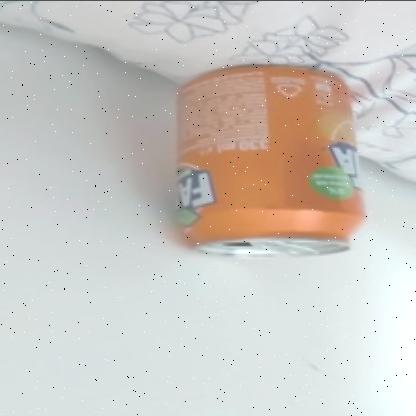Can: (171, 62, 367, 258)
